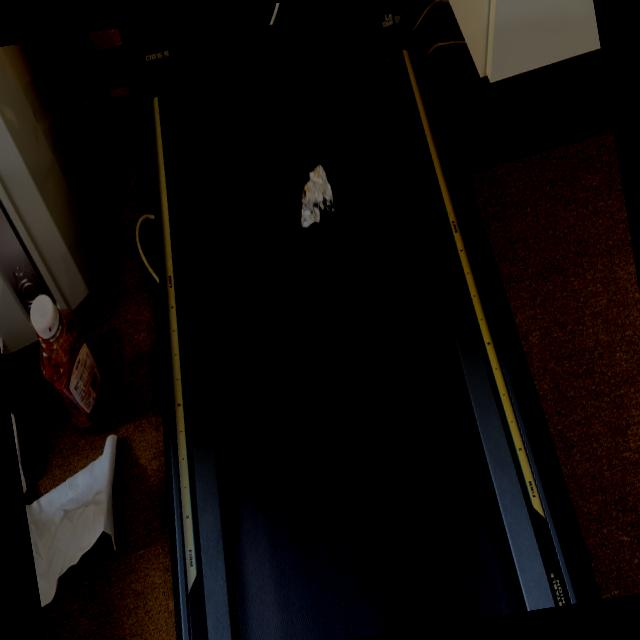Recycle: (291, 160, 339, 232)
